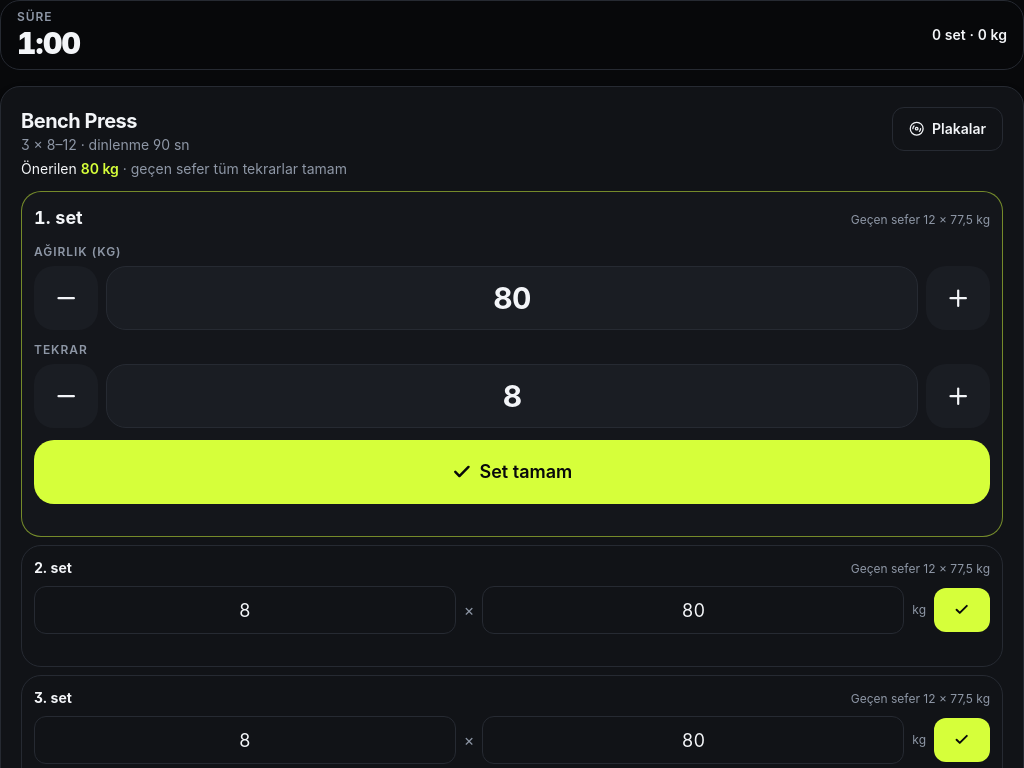
plate sheet › says when the backend is down, in the user's language
Click the button "Plakalar". click: (947, 129)
box: [892,107,1003,151]
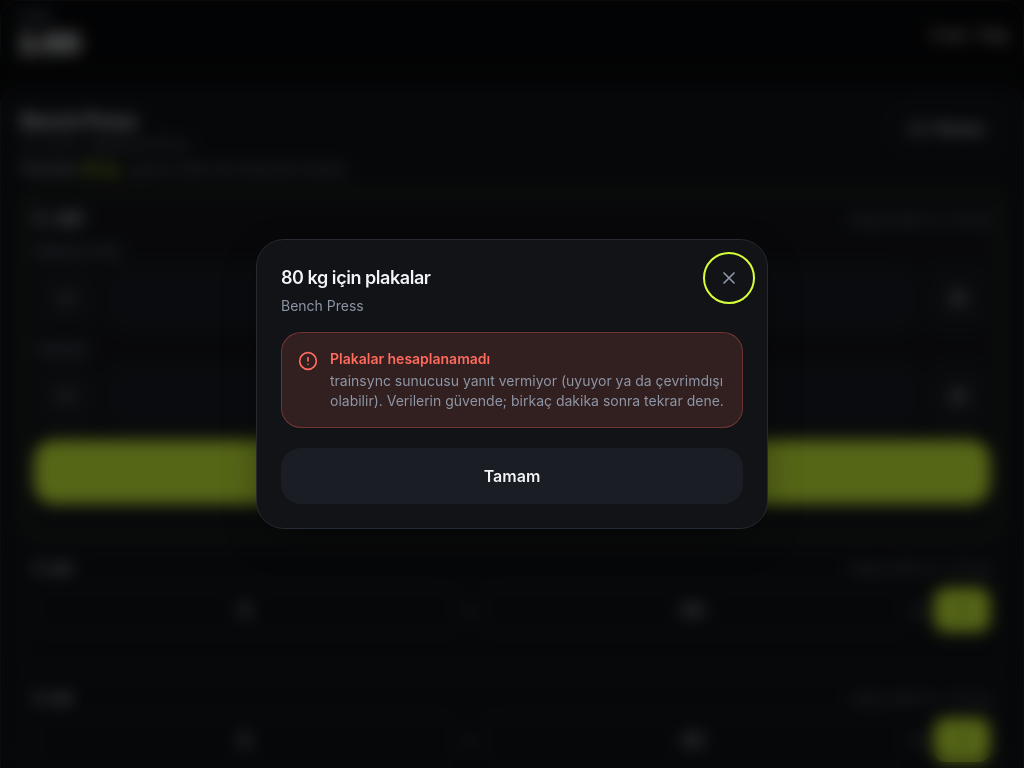
Expected: the message does not show "trainsync API unavailable", [281,332,743,428]
Result: the message shows "Plakalar hesaplanamadı" at [330,350,490,367]
